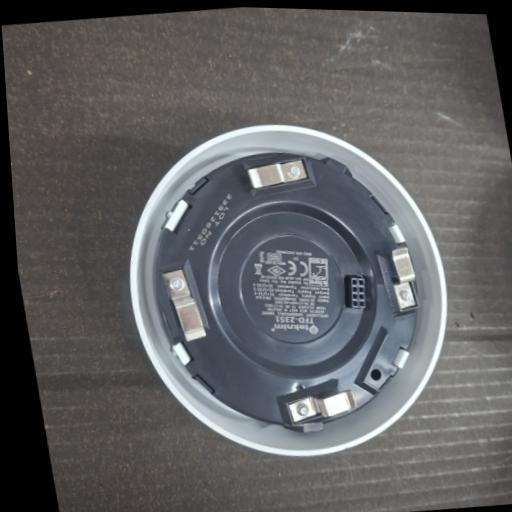yaysiz: (152, 256, 211, 347), (272, 376, 349, 435), (375, 247, 421, 319), (245, 157, 311, 192)
